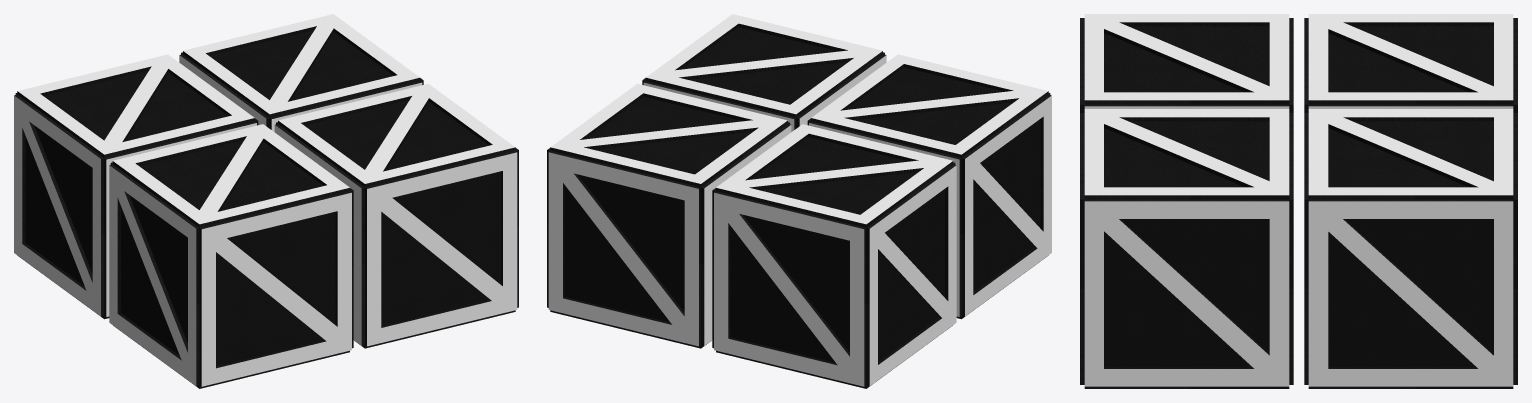
Rendered from PileOfCrates.FBX.
The picture shows the model from 3 angles, left to right: view 1: azimuth 30°, elevation 25°; view 2: azimuth 150°, elevation 25°; view 3: azimuth 270°, elevation 25°; orthographic projection. The views are drawn at different scales.
Visible parts, largest first — view 1: Object023; view 2: Object023; view 3: Object023.
Part boxes in pixels (x1,y1,x2,y2): Object023: [14, 14, 518, 388]; Object023: [547, 14, 1051, 388]; Object023: [1080, 14, 1517, 388].
Bounding box in the file's own units: 75.94 × 37.01 × 75.83.
